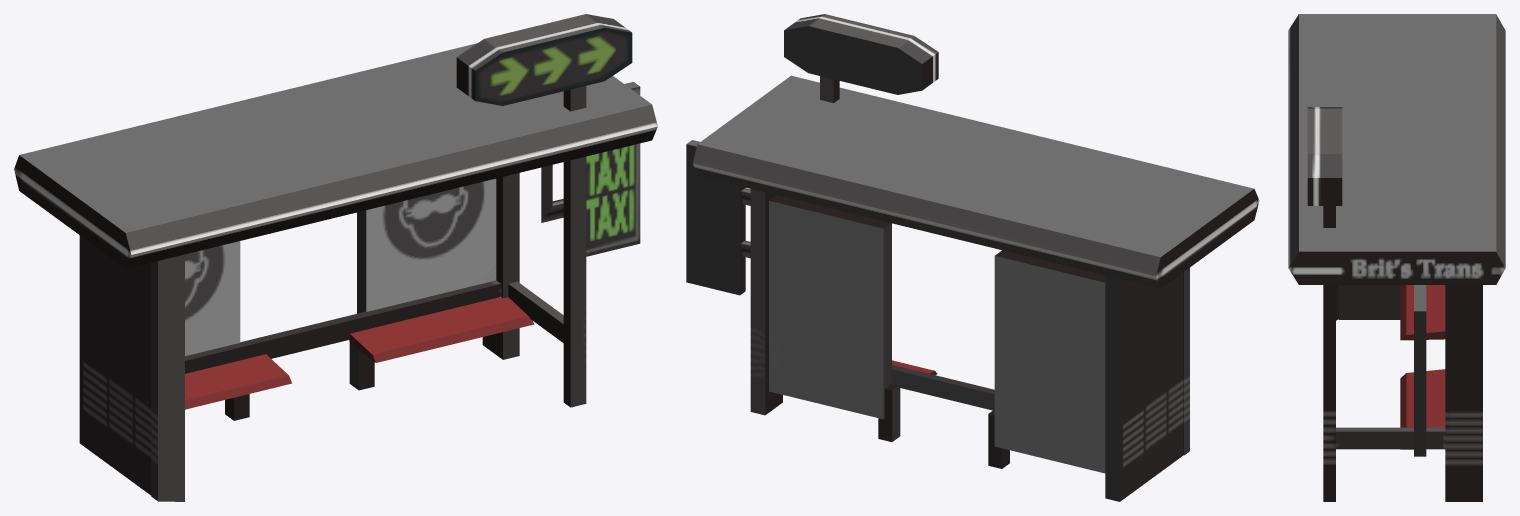
File: BusStop.FBX
3 views of the same model, side by side, from view 1: azimuth 30°, elevation 25°; view 2: azimuth 150°, elevation 25°; view 3: azimuth 270°, elevation 25° (orthographic). The views are drawn at different scales.
Visible parts, largest first — view 1: Box008; view 2: Box008; view 3: Box008.
Part boxes in pixels (x1=…): Box008: x1=14, y1=14, x2=657, y2=501; Box008: x1=686, y1=14, x2=1259, y2=501; Box008: x1=1288, y1=14, x2=1505, y2=501.
Size of the model in its own units: 51.81 by 32.7 by 18.27.
